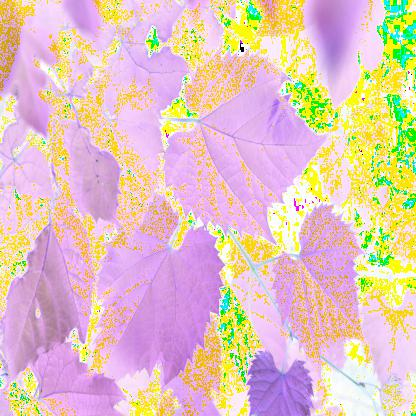grape leaf: (161, 46, 322, 228), (79, 193, 219, 396), (268, 202, 367, 355), (119, 81, 160, 250)
